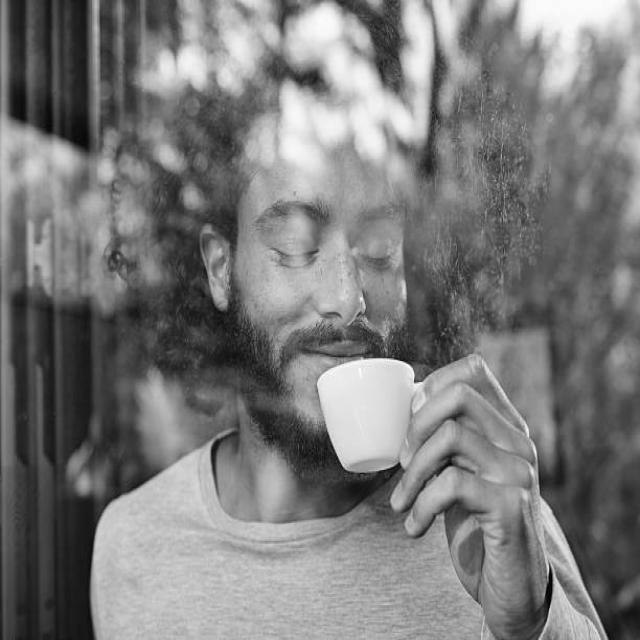real: (197, 98, 414, 462), (246, 196, 404, 279)
